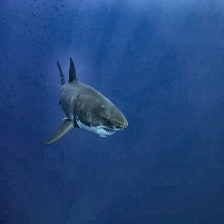shark: (42, 56, 128, 146)
